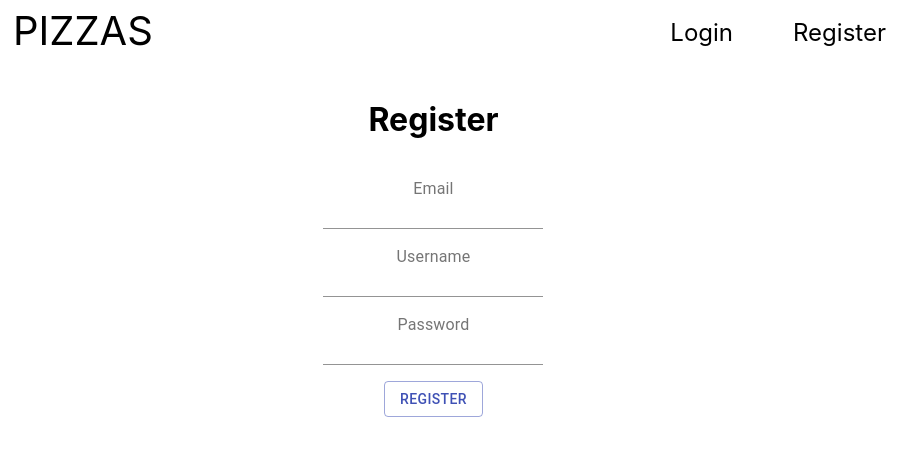
Test: Tests main functionalities › test register with invalid email
In the field labelled "Email": (434, 213) [324,197,544,229], type "E"
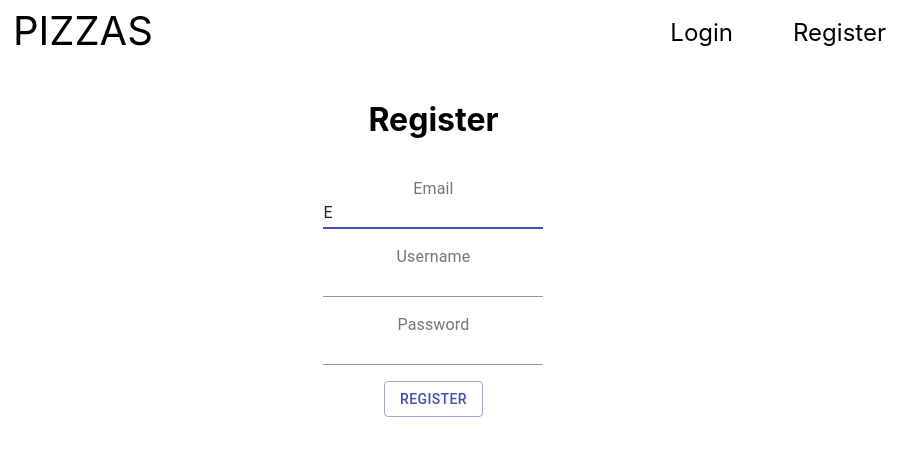
In the field labelled "Username": (434, 281) [324,265,544,297], type "Example"
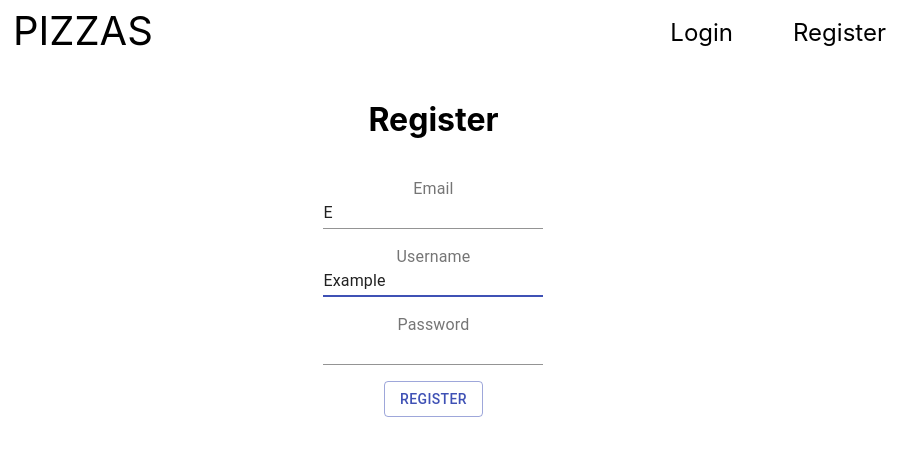
In the password field labelled "Password": (434, 349) [324,333,544,365], type "12345"
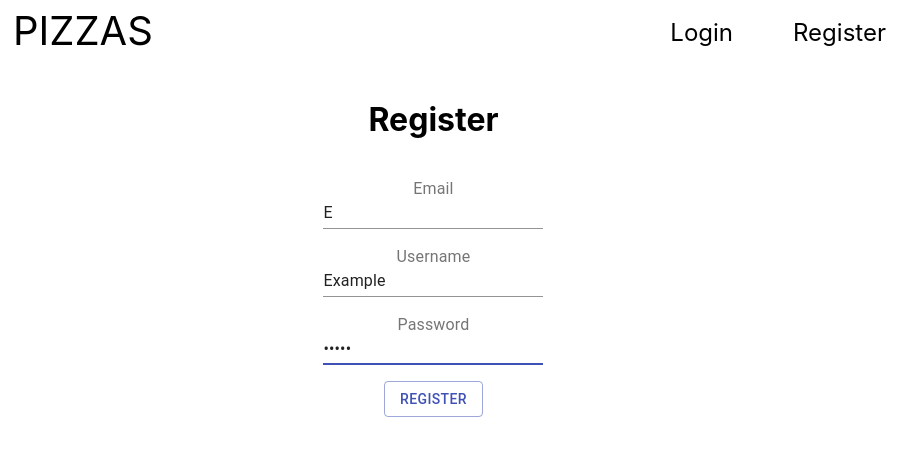
Submit the form, box [324,179,544,418]
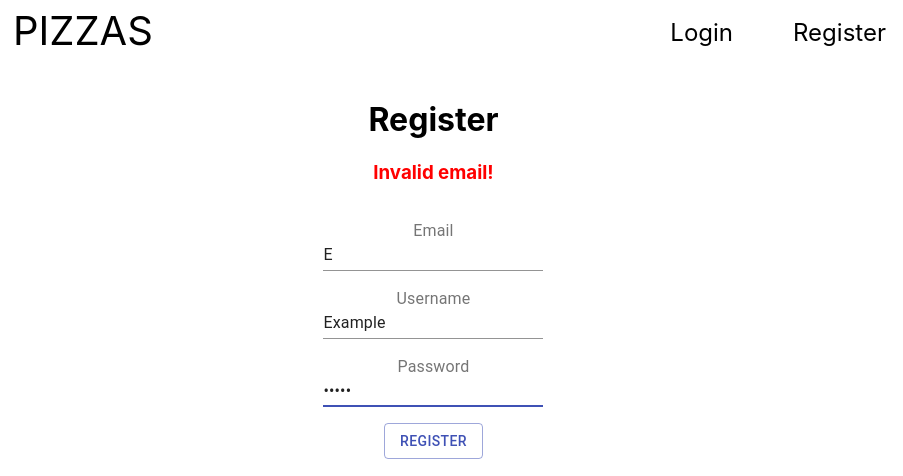
Expected: the heading "Invalid email!" is shown, [373,161,494,184]
